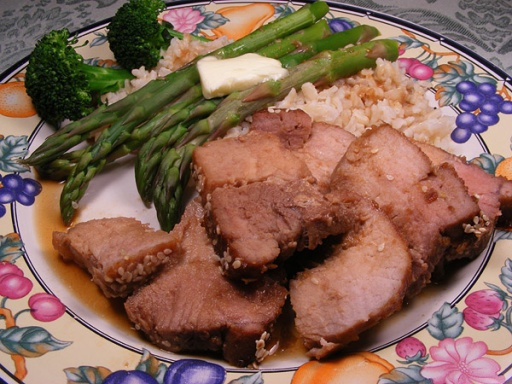background: (12, 0, 409, 220)
